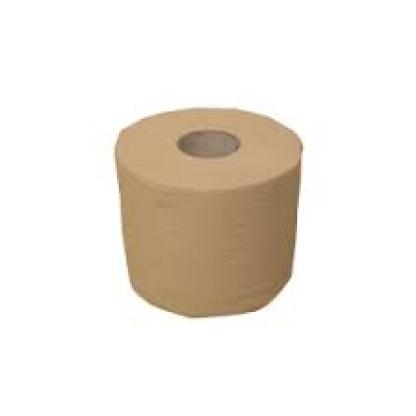tissue: (111, 103, 310, 325)
